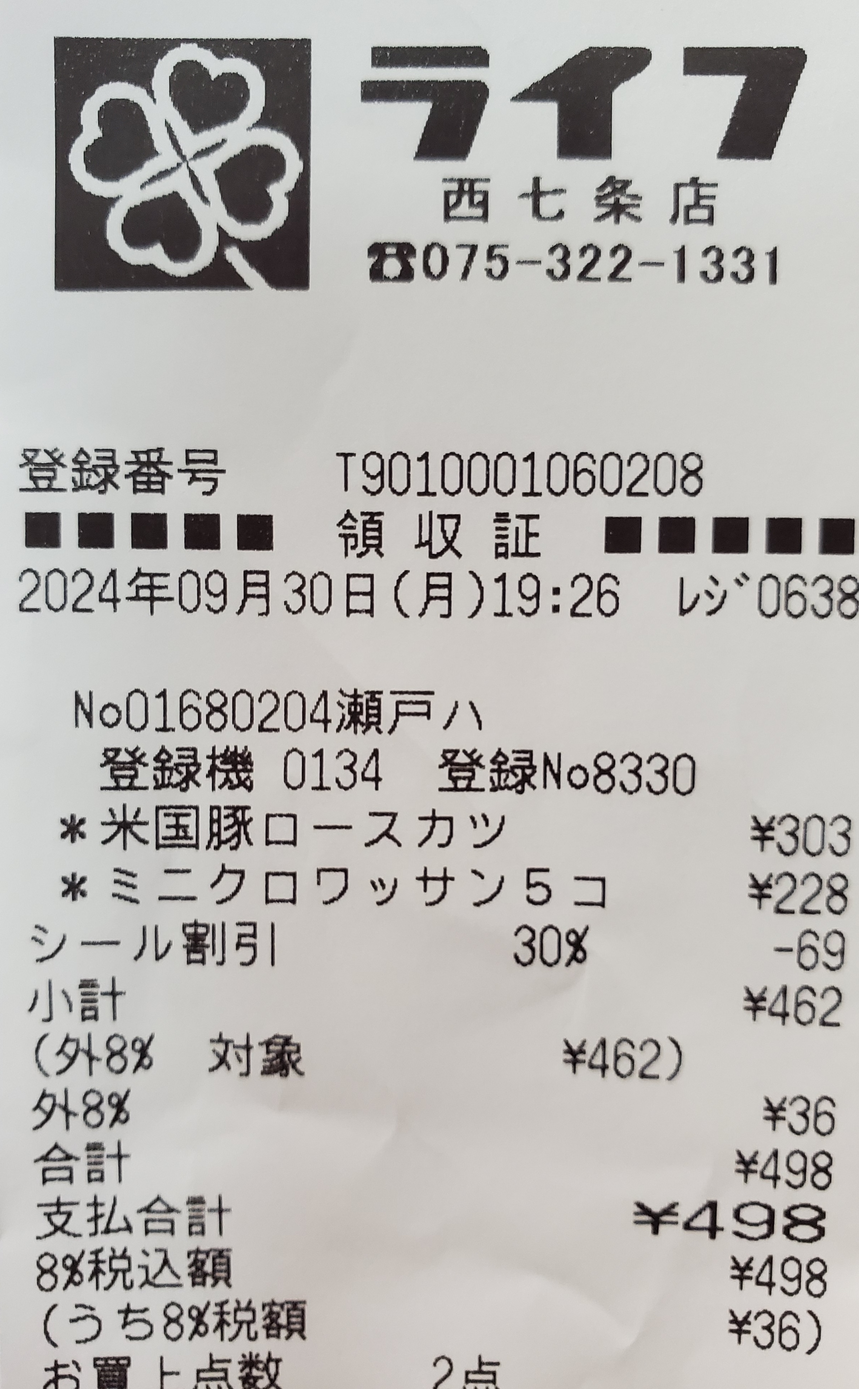Date: (15, 560, 385, 630)
Shopname: (359, 31, 808, 172)
Telnum: (419, 240, 792, 294)
Totalpay: (23, 1192, 854, 1252)
